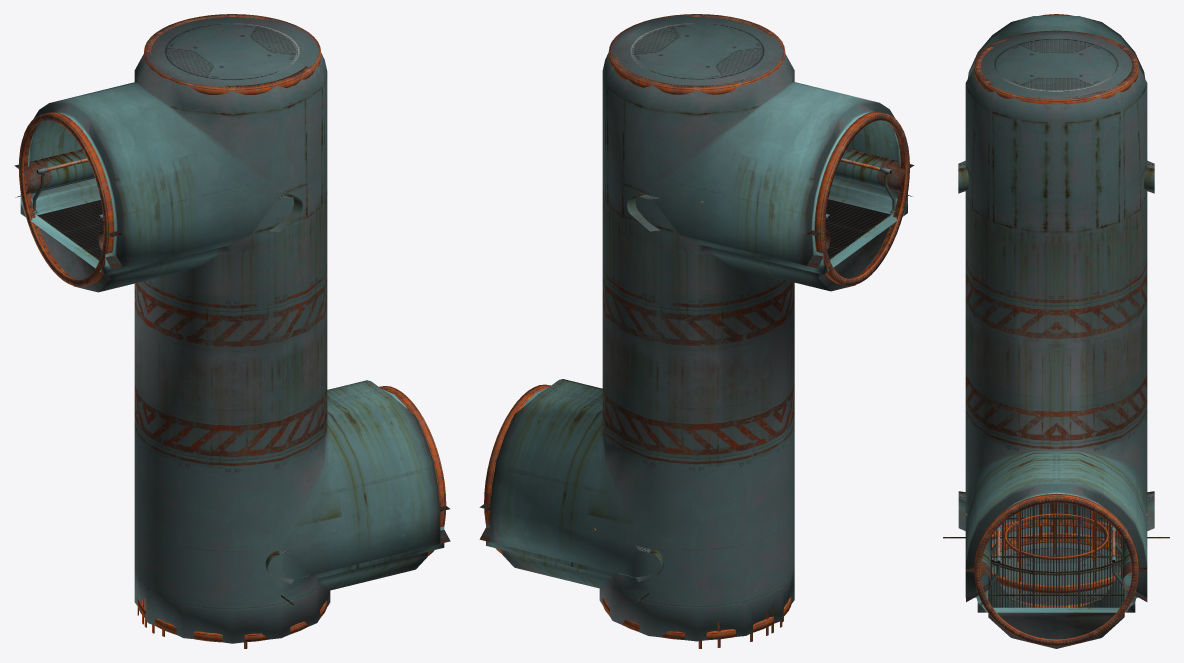
The model's file is phi_tunnel_ladder_long.DAE.
The picture shows the model from 3 angles, left to right: view 1: azimuth 30°, elevation 25°; view 2: azimuth 150°, elevation 25°; view 3: azimuth 270°, elevation 25°; orthographic projection. The views are drawn at different scales.
Visible parts, largest first — view 1: pieceladder13, pieceladder22, pieceladder07, pieceladder05; view 2: pieceladder13, pieceladder22, pieceladder07, pieceladder05; view 3: pieceladder13, pieceladder07, pieceladder22, pieceladder05, pieceladder26.
Boxes of the visible parts, <box> form: pieceladder13: <box>14,17,450,643</box>; pieceladder22: <box>18,14,326,648</box>; pieceladder07: <box>37,200,293,604</box>; pieceladder05: <box>379,386,446,555</box>; pieceladder13: <box>479,15,914,641</box>; pieceladder22: <box>602,14,909,648</box>; pieceladder07: <box>635,199,891,602</box>; pieceladder05: <box>484,384,550,553</box>; pieceladder13: <box>958,16,1154,648</box>; pieceladder07: <box>943,503,1169,607</box>; pieceladder22: <box>974,14,1138,607</box>; pieceladder05: <box>974,493,1138,645</box>; pieceladder26: <box>966,513,1147,606</box>.
Size of the model in its own units: 8 by 12.62 by 5.
